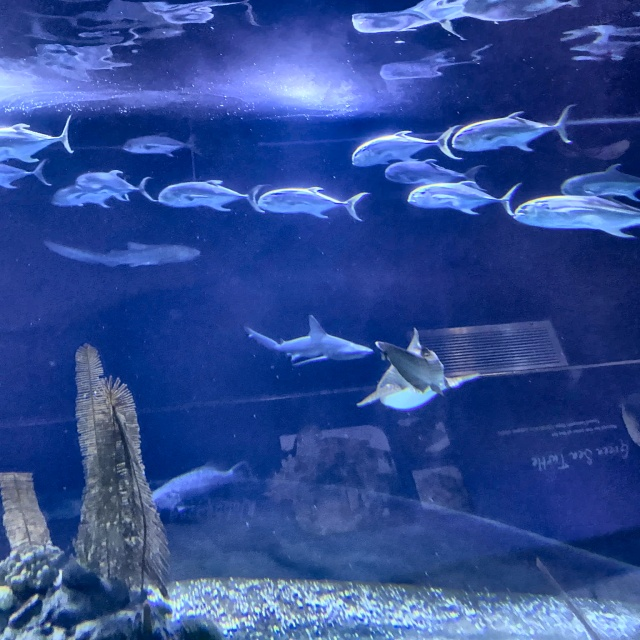fish: (451, 103, 574, 154), (150, 459, 254, 514), (515, 196, 639, 238), (352, 123, 461, 167), (257, 188, 370, 222), (408, 182, 520, 216), (159, 178, 262, 213), (0, 113, 71, 162), (561, 164, 639, 201), (75, 170, 158, 202), (382, 163, 484, 184), (52, 185, 128, 210), (124, 134, 200, 158), (0, 159, 50, 187)
shark: (358, 326, 478, 410), (246, 314, 374, 366), (45, 241, 198, 268)
